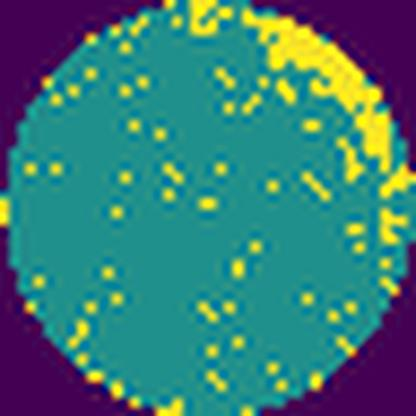Edge-Loc: (243, 0, 413, 178), (377, 163, 416, 200), (185, 0, 222, 34)
